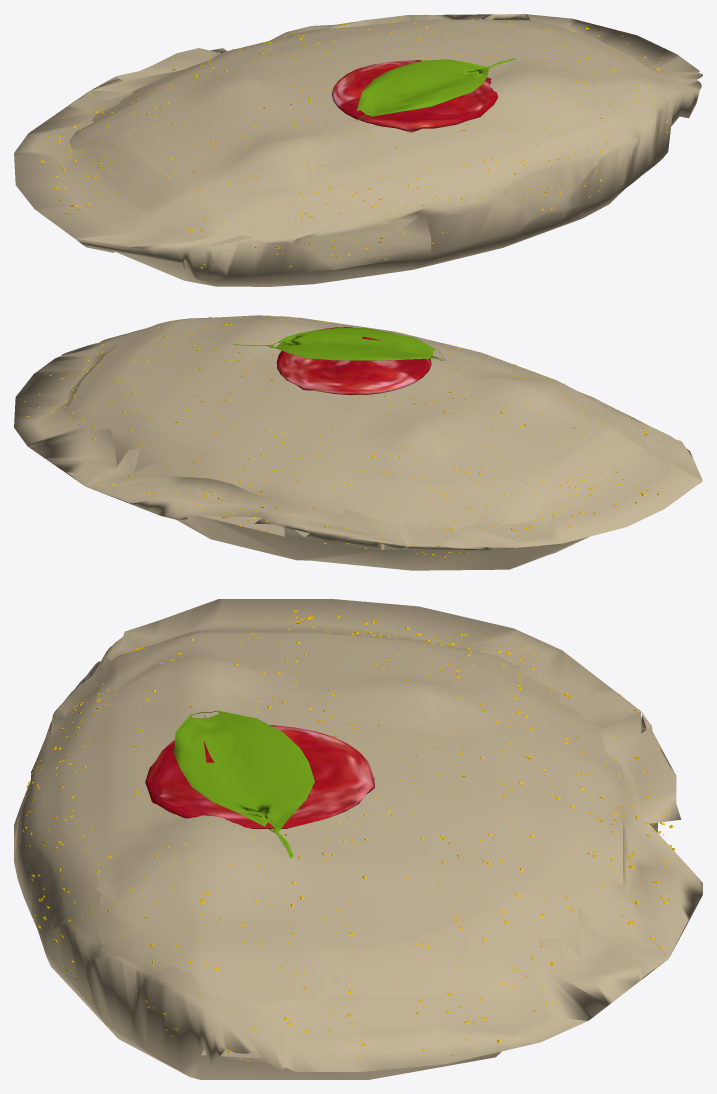
File: panzerotti.fbx
3 renders of one model, top to bottom at view 1: azimuth 30°, elevation 25°; view 2: azimuth 150°, elevation 25°; view 3: azimuth 270°, elevation 25°, orthographic. The views are drawn at different scales.
Visible parts, largest first — view 1: Mball_001, Cube_001, Sphere; view 2: Mball_001, Sphere, Cube_001; view 3: Mball_001, Cube_001, Sphere.
Boxes of the visible parts, <box> form: Mball_001: <box>14,14,702,286</box>; Cube_001: <box>355,58,515,120</box>; Sphere: <box>331,60,498,132</box>; Mball_001: <box>14,315,702,570</box>; Sphere: <box>276,327,431,395</box>; Cube_001: <box>234,327,445,360</box>; Mball_001: <box>14,599,702,1079</box>; Cube_001: <box>174,710,314,857</box>; Sphere: <box>145,725,374,828</box>.
Bounding box in the file's own units: 191 × 41.88 × 122.
